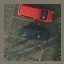car: (17, 5, 54, 21), (23, 26, 51, 38)
